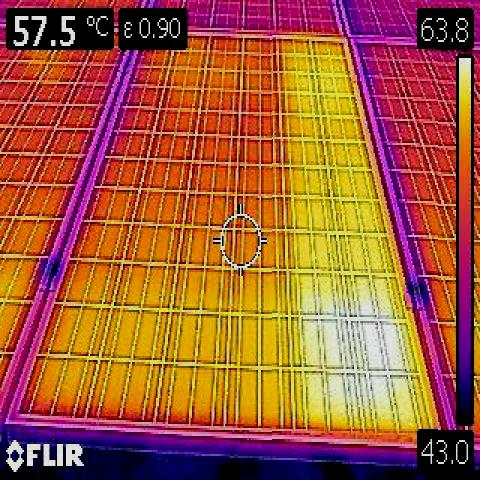fault: (272, 36, 438, 442)
